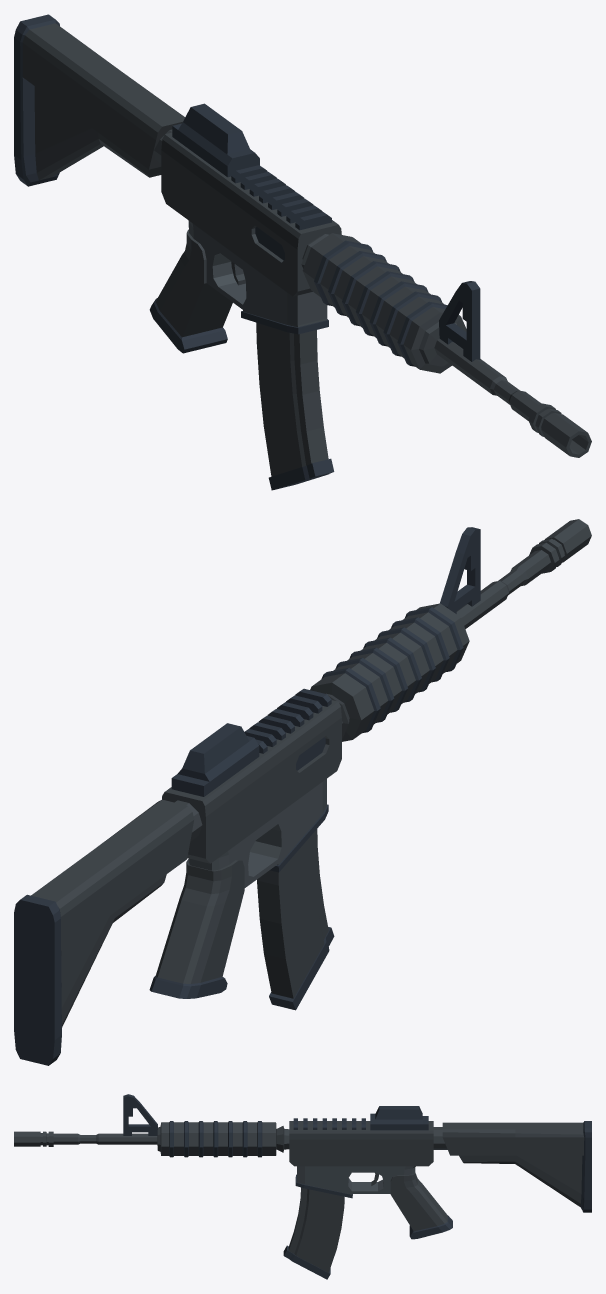
The model's file is rifle_ar_1.glb.
3 views of the same model, one above another, from view 1: azimuth 30°, elevation 25°; view 2: azimuth 150°, elevation 25°; view 3: azimuth 270°, elevation 25° (orthographic). The views are drawn at different scales.
Parts seen in each view (by area): view 1: rifle_ar_1; view 2: rifle_ar_1; view 3: rifle_ar_1.
Part boxes in pixels (<box>): rifle_ar_1: <box>14,14,591,490</box>; rifle_ar_1: <box>14,519,591,1065</box>; rifle_ar_1: <box>14,1094,591,1279</box>.
Size of the model in its own units: 0.0617 by 0.3187 by 0.92.
